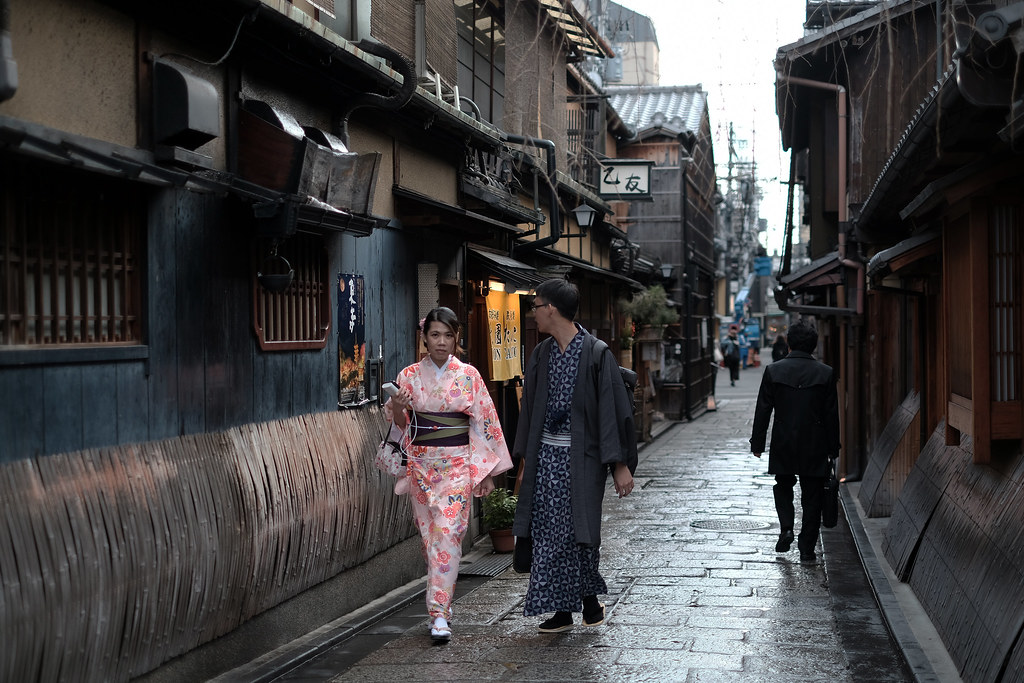person: (497, 272, 658, 645), (363, 300, 521, 654), (729, 314, 862, 581)
